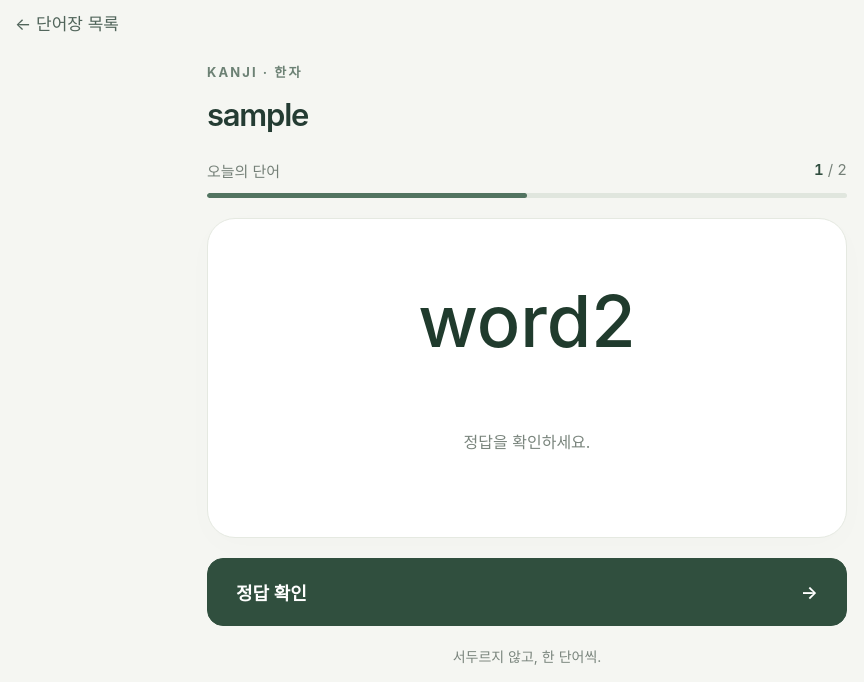
kanji preserves reveal, advance, restart and back navigation
The image size is (864, 682).
Later steps or results of the test are not shown.
Click the button "정답 확인 →". click: (271, 594)
box: x1=207 y1=558 x2=847 y2=626
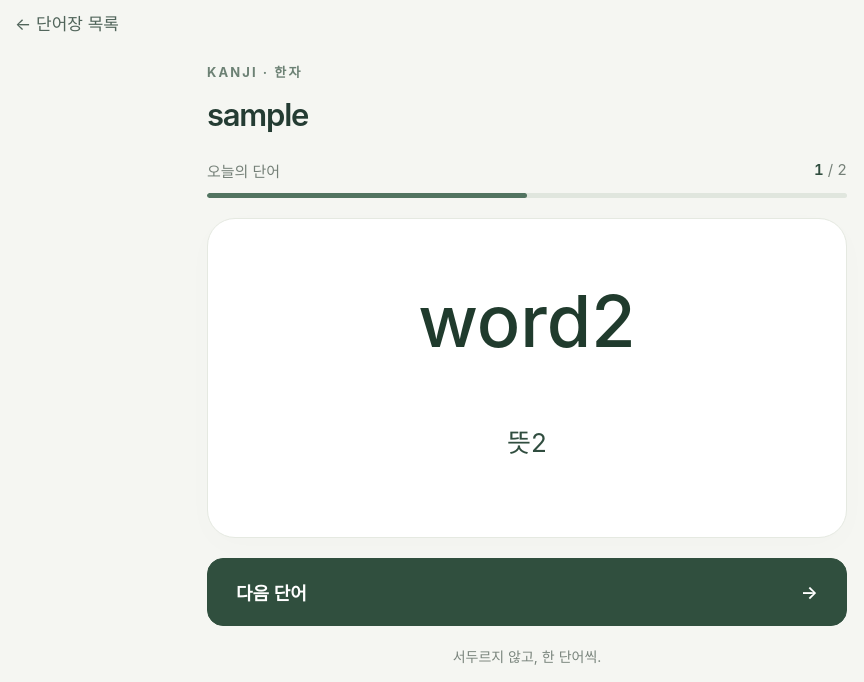
Expected: the text "뜻2" is shown, x1=507 y1=427 x2=547 y2=458
Click the button "다음 단어 →". click: (271, 594)
box: x1=207 y1=558 x2=847 y2=626
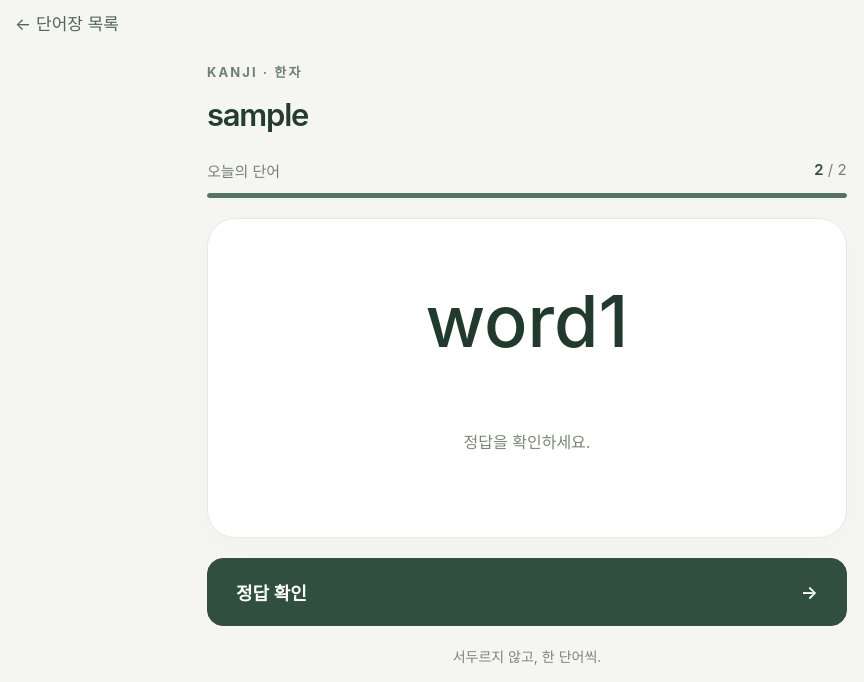
Expected: the button "뜻2" is gone
Click the button "정답 확인 →". click: (271, 594)
box: x1=207 y1=558 x2=847 y2=626
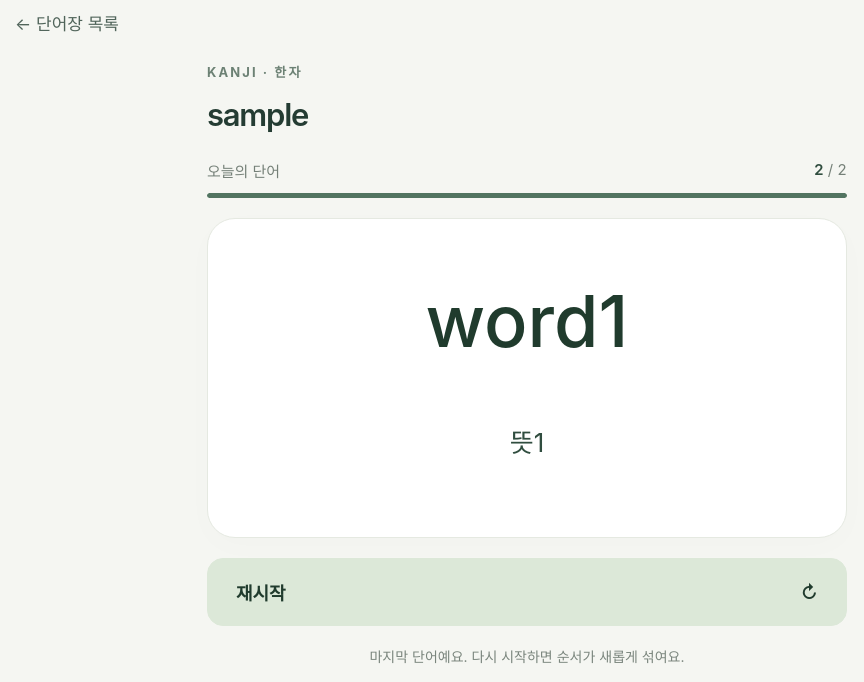
Expected: the button "재시작 ↻" has class "jq-action-restart"
Click the button "재시작 ↻". click: (261, 594)
box: x1=207 y1=558 x2=847 y2=626
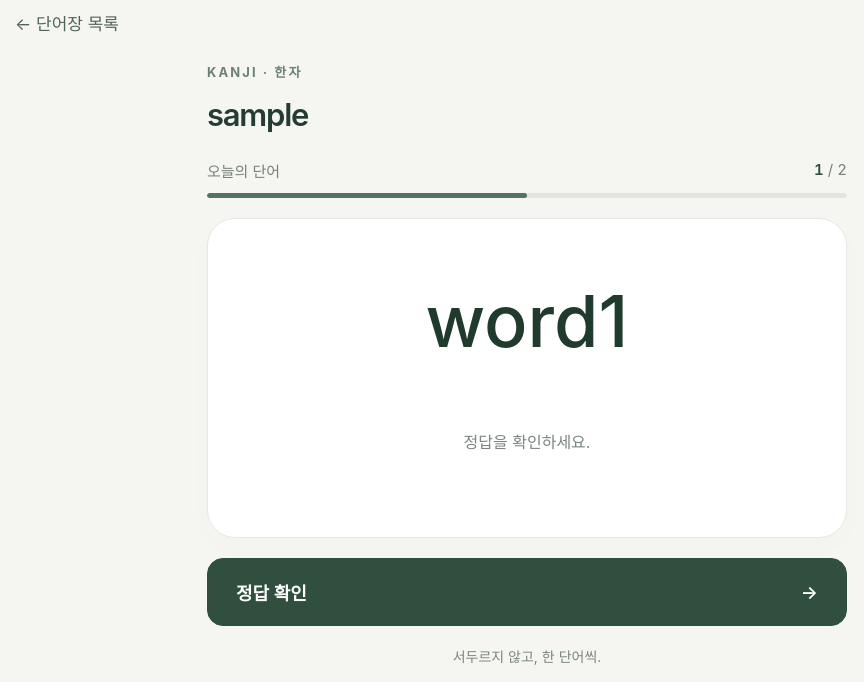
Expected: the button "뜻1" is gone
